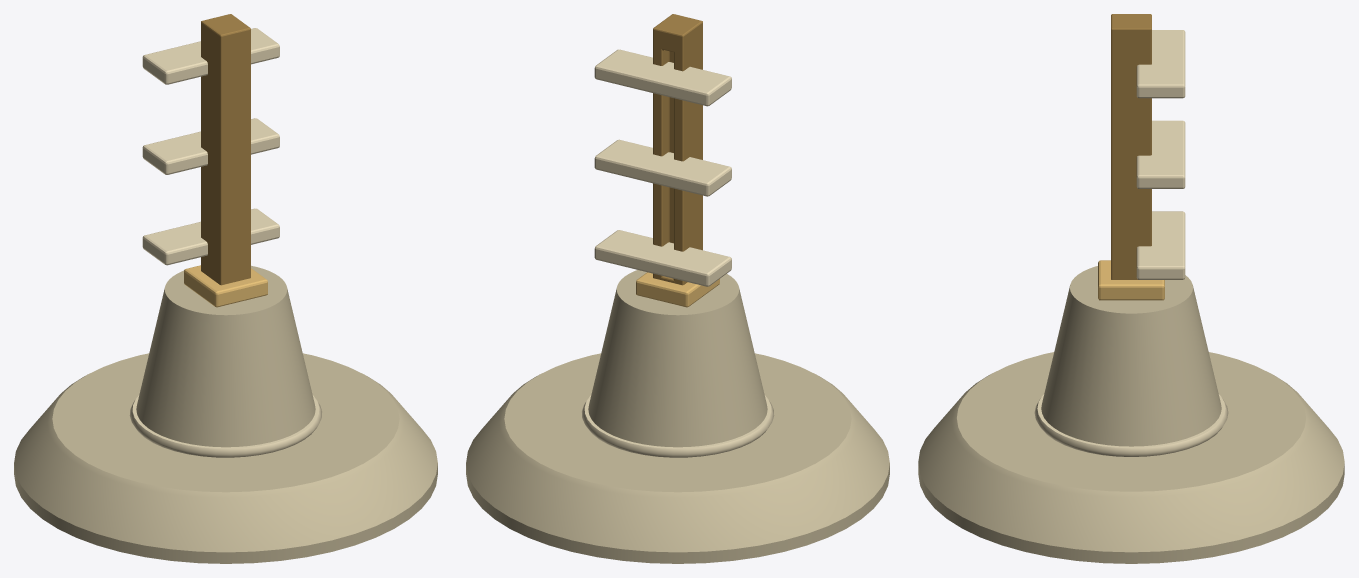
Rendered from height-grip-base-v01.glb.
3 views of the same model, side by side, from view 1: azimuth 30°, elevation 25°; view 2: azimuth 150°, elevation 25°; view 3: azimuth 270°, elevation 25° (orthographic).
Parts seen in each view (by area): view 1: Shadow sandstone 0, Shadow brass 3, Shadow sandstone light 1, Shadow brass light 2; view 2: Shadow sandstone 0, Shadow sandstone light 1, Shadow brass 3, Shadow brass light 2; view 3: Shadow sandstone 0, Shadow sandstone light 1, Shadow brass 3, Shadow brass light 2.
Boxes of the visible parts, x1,y1,x2,y2 form: Shadow sandstone 0: (14, 265, 437, 563); Shadow brass 3: (201, 14, 250, 285); Shadow sandstone light 1: (129, 28, 321, 457); Shadow brass light 2: (184, 265, 267, 307); Shadow sandstone 0: (466, 270, 889, 563); Shadow sandstone light 1: (582, 49, 774, 457); Shadow brass 3: (653, 14, 702, 285); Shadow brass light 2: (636, 272, 719, 307); Shadow sandstone 0: (918, 266, 1344, 563); Shadow sandstone light 1: (1034, 30, 1228, 456); Shadow brass 3: (1111, 14, 1151, 279); Shadow brass light 2: (1098, 260, 1164, 300).
Bounding box in the file's own units: 1.66 × 1.95 × 1.66.
